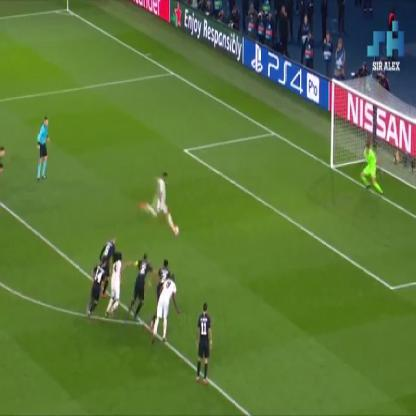penalty kick: (137, 68, 402, 246)
